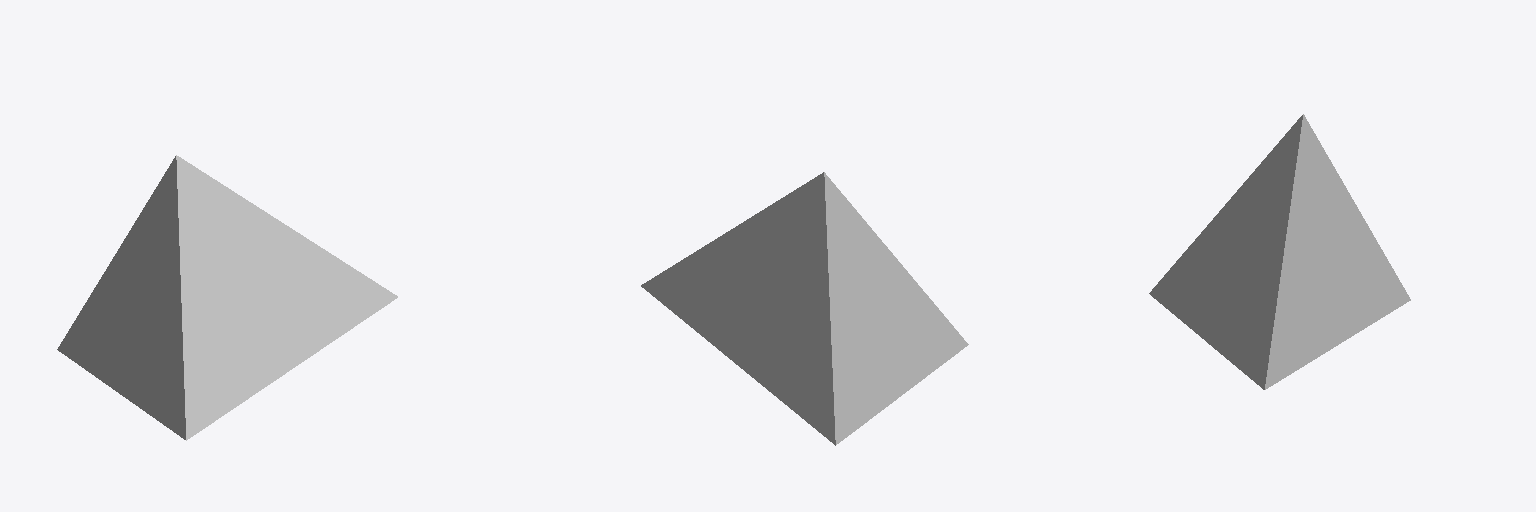
Rendered from ins.obj.
3 views of the same model, side by side, from view 1: azimuth 30°, elevation 25°; view 2: azimuth 150°, elevation 25°; view 3: azimuth 270°, elevation 25° (orthographic).
Visible parts, largest first — view 1: ins.003; view 2: ins.003; view 3: ins.003.
Part boxes in pixels (bbox=[...]): ins.003: bbox=[57, 155, 397, 440]; ins.003: bbox=[641, 172, 968, 445]; ins.003: bbox=[1149, 114, 1410, 389].
Bounding box in the file's own units: 5.82 × 4.49 × 4.89.